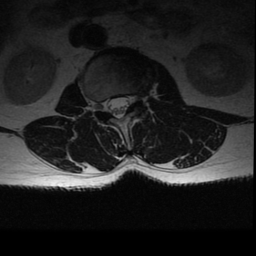CCS_normal: (113, 90, 122, 122)
LFS_normal: (129, 88, 137, 111)
LLS_normal: (122, 89, 129, 116)
RFS_normal: (97, 93, 106, 117)
RLS_normal: (107, 90, 114, 119)
